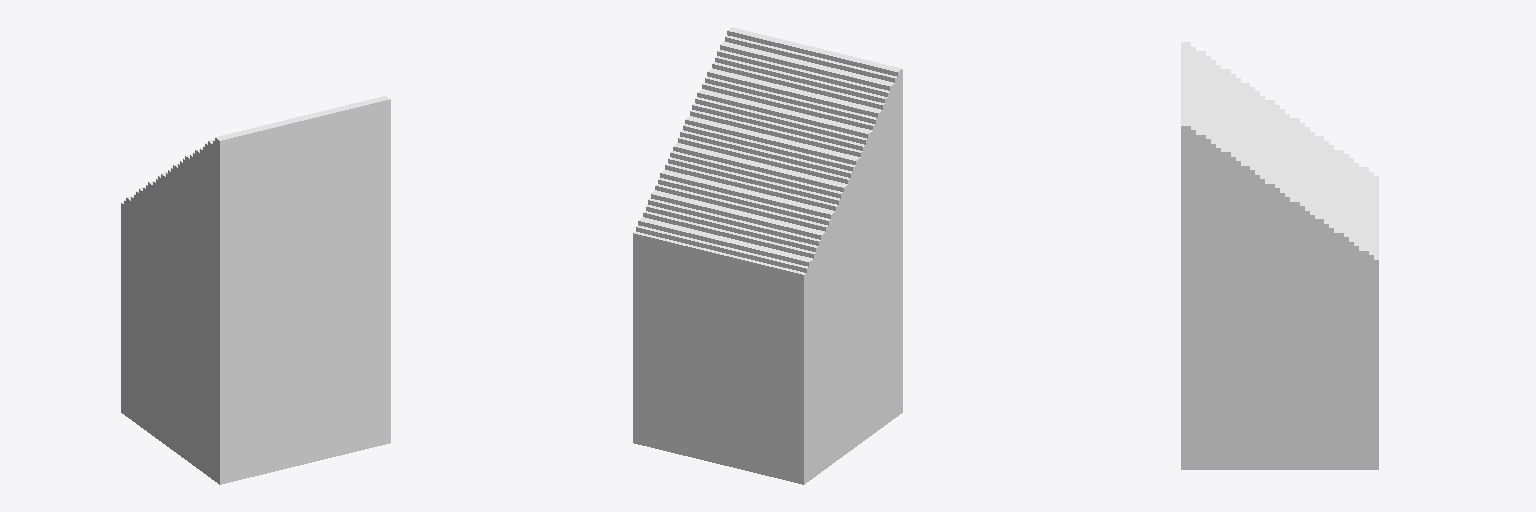
The model's file is ticket_machine.obj.
3 renders of one model, left to right at view 1: azimuth 30°, elevation 25°; view 2: azimuth 150°, elevation 25°; view 3: azimuth 270°, elevation 25°, orthographic.
Parts seen in each view (by area): view 1: ticket_machine; view 2: ticket_machine; view 3: ticket_machine.
Boxes of the visible parts, x1=… form: ticket_machine: x1=121, y1=96, x2=390, y2=484; ticket_machine: x1=633, y1=27, x2=902, y2=484; ticket_machine: x1=1181, y1=42, x2=1378, y2=469.
Bounding box in the file's own units: 40 × 77 × 40.